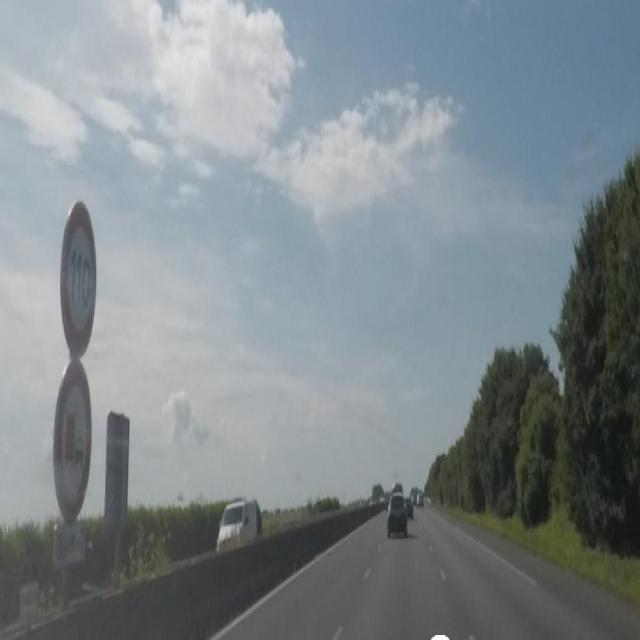speed_110: (61, 203, 96, 355)
